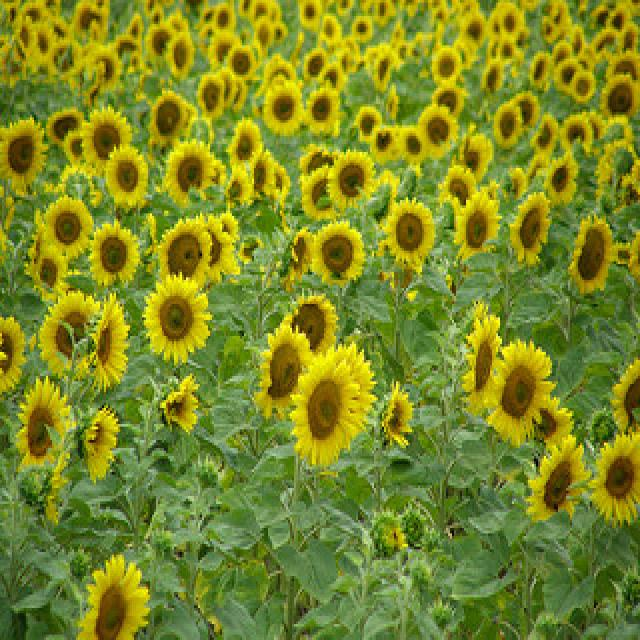sunflower: (483, 336, 555, 448), (292, 355, 358, 469), (80, 554, 150, 640), (144, 274, 210, 362), (525, 436, 589, 524), (37, 292, 99, 380), (254, 324, 310, 415), (79, 297, 129, 396), (18, 379, 74, 461), (156, 217, 212, 295), (595, 430, 639, 526), (567, 215, 615, 302), (71, 406, 119, 486), (453, 185, 499, 263), (165, 137, 215, 207), (509, 188, 551, 271), (384, 197, 436, 264), (464, 317, 498, 419), (90, 220, 140, 289), (280, 297, 338, 353), (81, 106, 131, 170), (44, 196, 92, 260), (0, 119, 42, 188), (315, 221, 363, 280), (608, 350, 640, 430), (104, 147, 148, 205), (331, 152, 373, 211), (160, 379, 200, 437), (281, 225, 313, 295), (302, 163, 344, 216), (419, 106, 457, 162), (263, 84, 303, 137), (382, 386, 414, 451), (0, 312, 24, 392), (545, 153, 579, 207), (602, 69, 636, 123), (303, 86, 339, 134), (226, 118, 262, 166), (151, 92, 183, 145), (34, 248, 66, 299), (492, 99, 520, 152), (50, 102, 82, 142), (168, 29, 192, 80), (89, 49, 117, 92), (356, 104, 382, 147), (434, 43, 460, 85), (228, 44, 254, 84), (148, 21, 172, 64), (200, 73, 222, 119), (301, 48, 327, 83), (571, 68, 593, 100)
